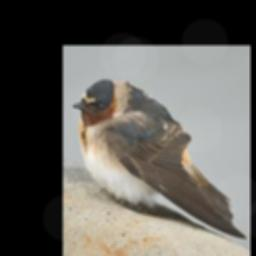Swallow: (71, 78, 247, 240)
